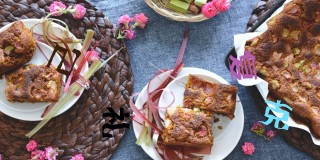克: (262, 98, 293, 130)
复: (227, 50, 258, 82)
己: (46, 45, 81, 75)
礼: (102, 105, 132, 138)
